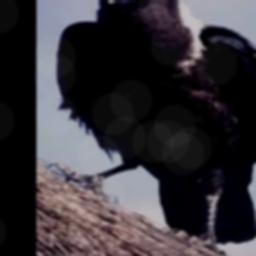Crow: (51, 0, 256, 251)
